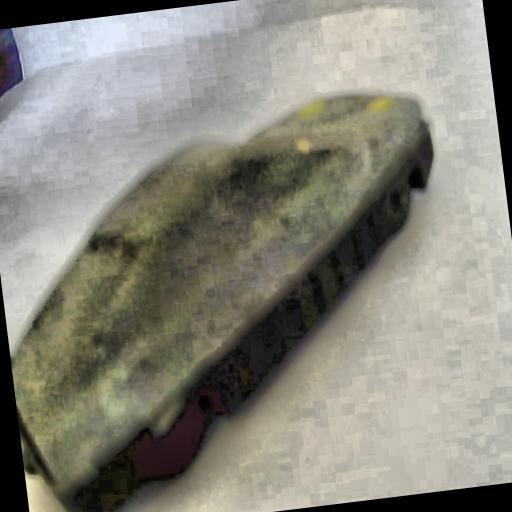normal_car: (0, 86, 474, 512)
